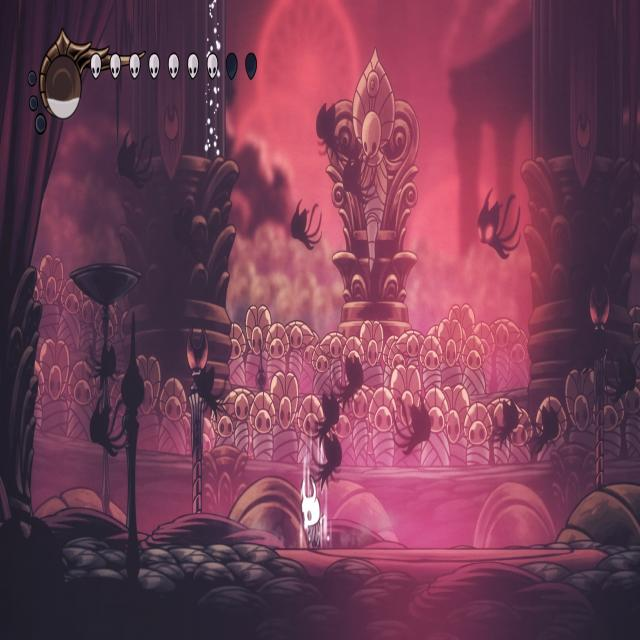Player: (300, 460, 328, 552)
Staggered_Grimm: (475, 184, 523, 263)
